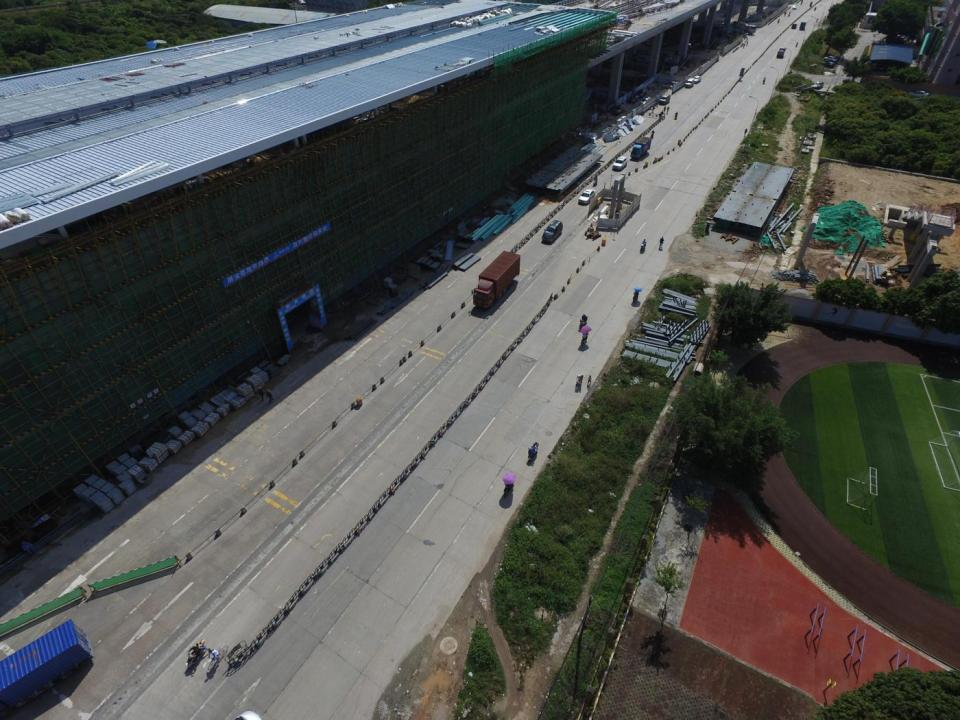car: (541, 220, 563, 245), (579, 187, 595, 204), (612, 156, 627, 169), (909, 90, 929, 99), (634, 88, 647, 99), (614, 103, 624, 114), (640, 96, 650, 106), (813, 81, 824, 89), (692, 74, 700, 84), (822, 61, 835, 67), (824, 56, 837, 61)
truck: (0, 615, 91, 708), (473, 250, 523, 310), (630, 135, 651, 158), (732, 24, 756, 34), (777, 48, 786, 58), (799, 21, 806, 30)
van: (659, 93, 670, 105), (685, 78, 693, 89), (790, 23, 798, 29)
